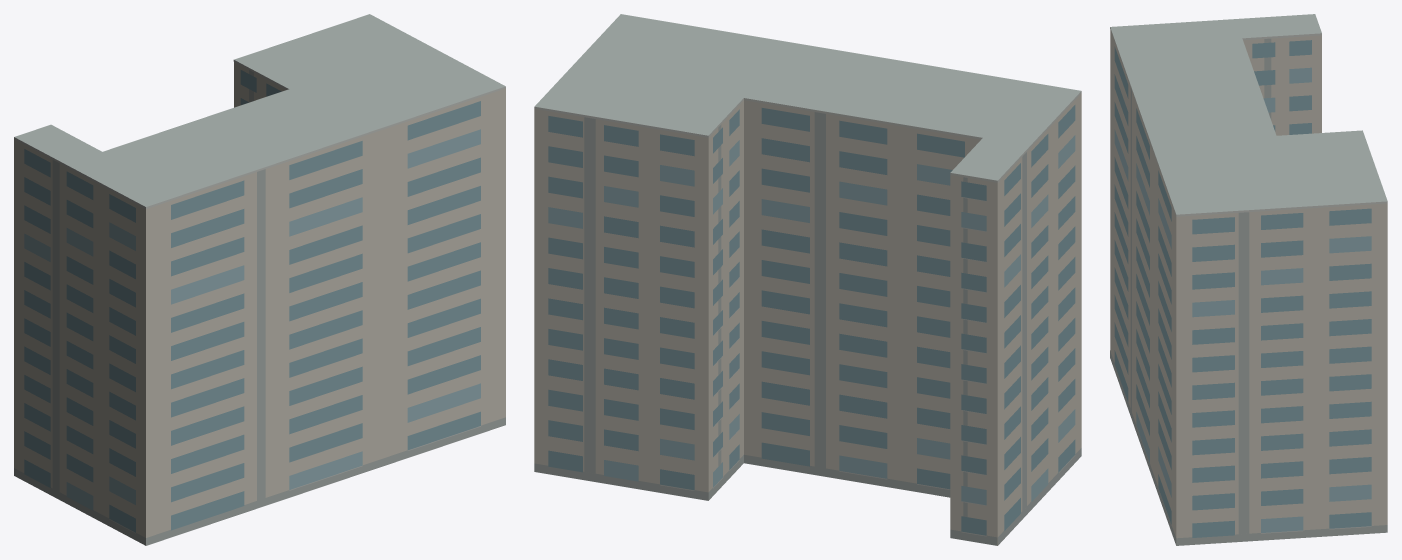
The model's file is residential-4ca9cf93-5a22-4880-a53a-fbb55ef335d5.glb.
The picture shows the model from 3 angles, left to right: view 1: azimuth 30°, elevation 25°; view 2: azimuth 150°, elevation 25°; view 3: azimuth 270°, elevation 25°; orthographic projection. The views are drawn at different scales.
Parts seen in each view (by area): view 1: residential-4ca9cf93-5a22-4880-a53a-fbb55ef335d5.tmp; view 2: residential-4ca9cf93-5a22-4880-a53a-fbb55ef335d5.tmp; view 3: residential-4ca9cf93-5a22-4880-a53a-fbb55ef335d5.tmp.
Boxes of the visible parts, left/top/right/bottom form: residential-4ca9cf93-5a22-4880-a53a-fbb55ef335d5.tmp: left=14, top=14, right=505, bottom=545; residential-4ca9cf93-5a22-4880-a53a-fbb55ef335d5.tmp: left=534, top=14, right=1081, bottom=545; residential-4ca9cf93-5a22-4880-a53a-fbb55ef335d5.tmp: left=1110, top=14, right=1387, bottom=545.
Bounding box in the file's own units: 51.99 × 40 × 30.39.
